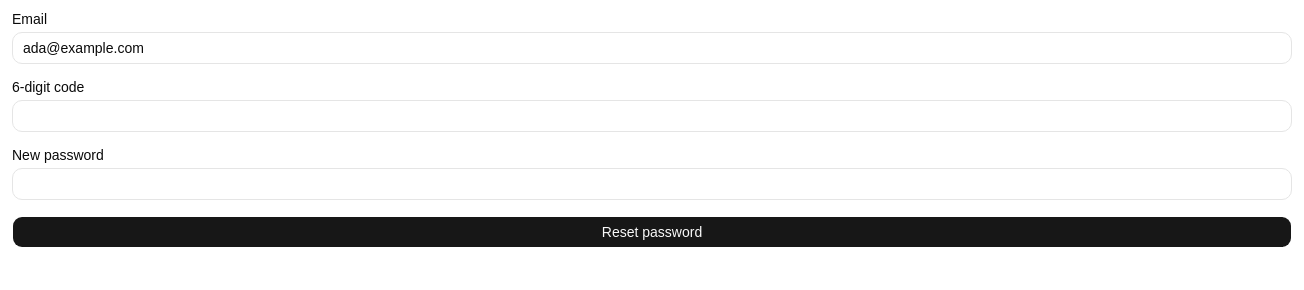
ResetPasswordForm › ERR-PWD-05: shows a server VALIDATION_ERROR on the named field and keeps the OTP usable
The image size is (1304, 290).
In the field labelled "6-digit code": (652, 116) [12,100,1292,132], type "123456"
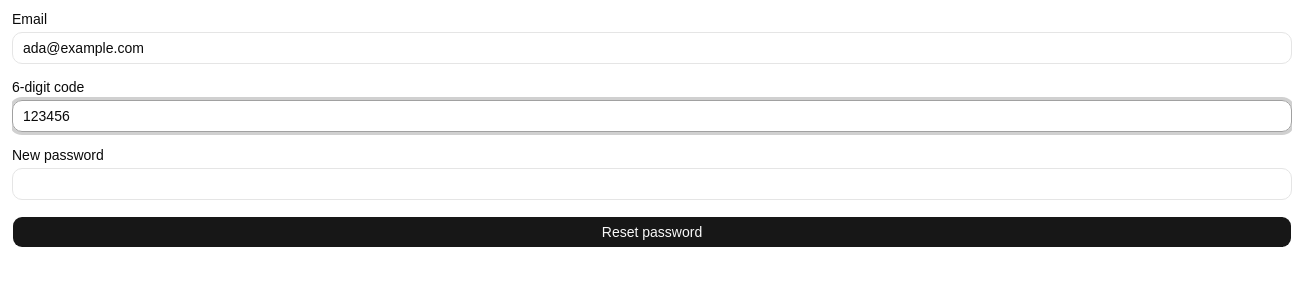
In the password field labelled "New password": (652, 184) [12,168,1292,200], type "correct-horse-9"
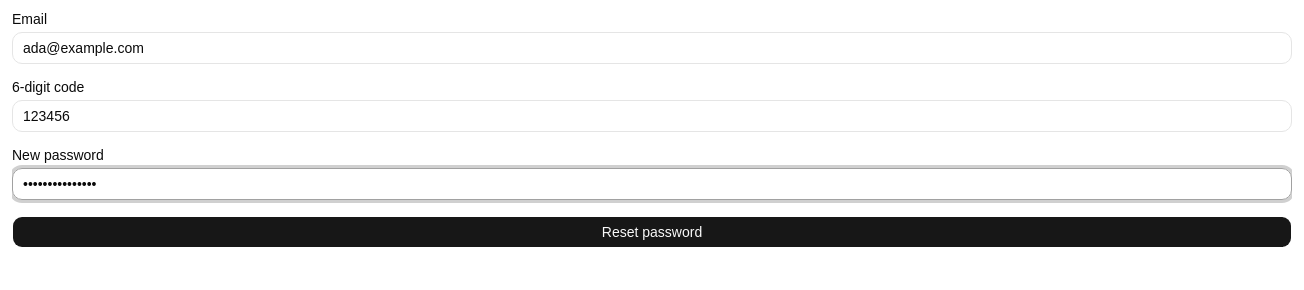
Click the button "Reset password": (652, 232) [12,216,1292,248]
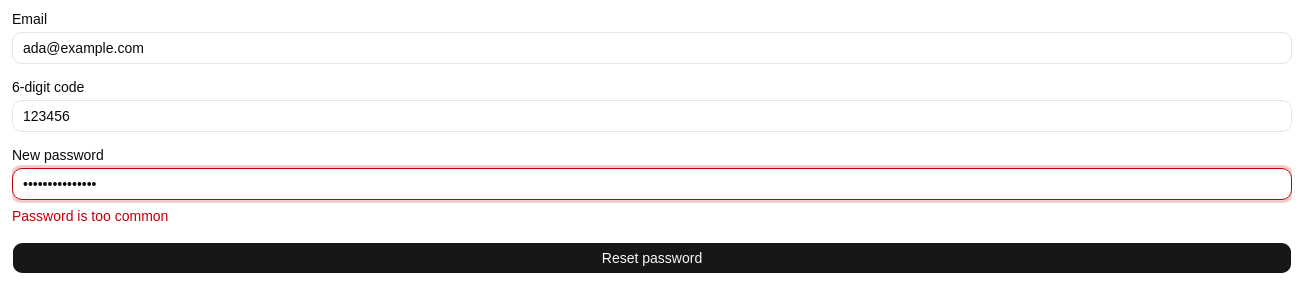
Now the text "Password is too common" is shown, box [12,208,168,224]
